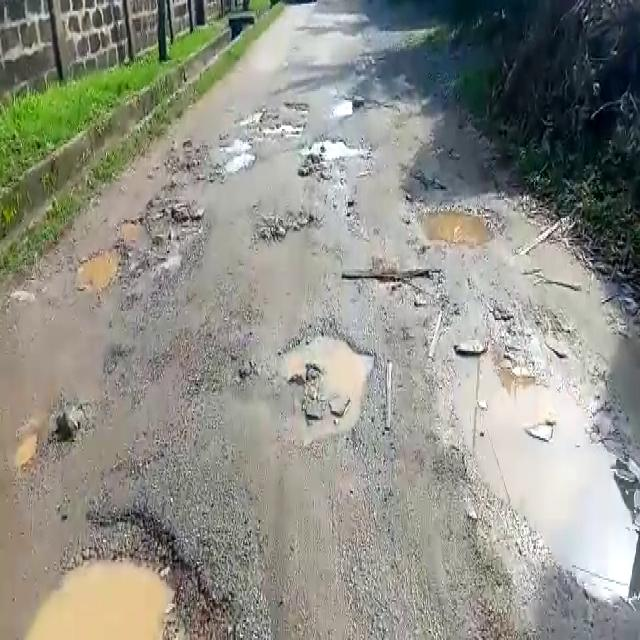Pothole: (436, 360, 640, 606), (22, 500, 242, 640), (280, 324, 378, 442), (105, 196, 207, 274), (418, 198, 502, 252), (73, 237, 128, 291), (341, 266, 444, 294), (210, 138, 257, 178), (256, 209, 318, 239), (303, 135, 371, 162), (242, 111, 312, 137)
